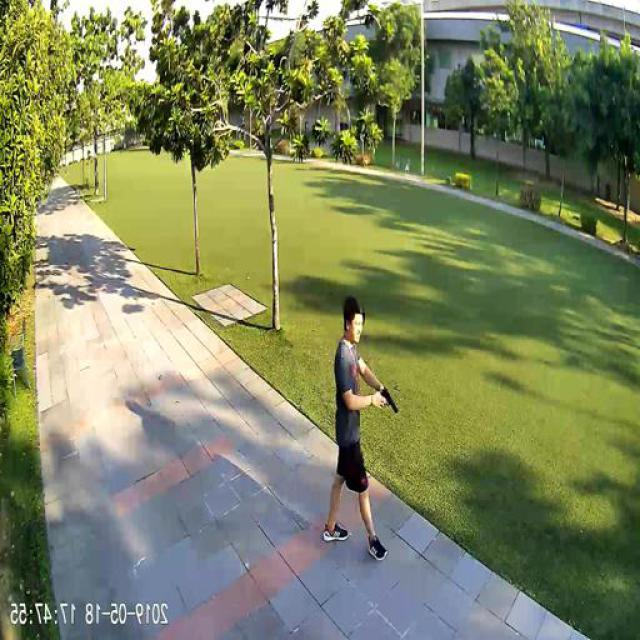Gun: (382, 385, 400, 413)
